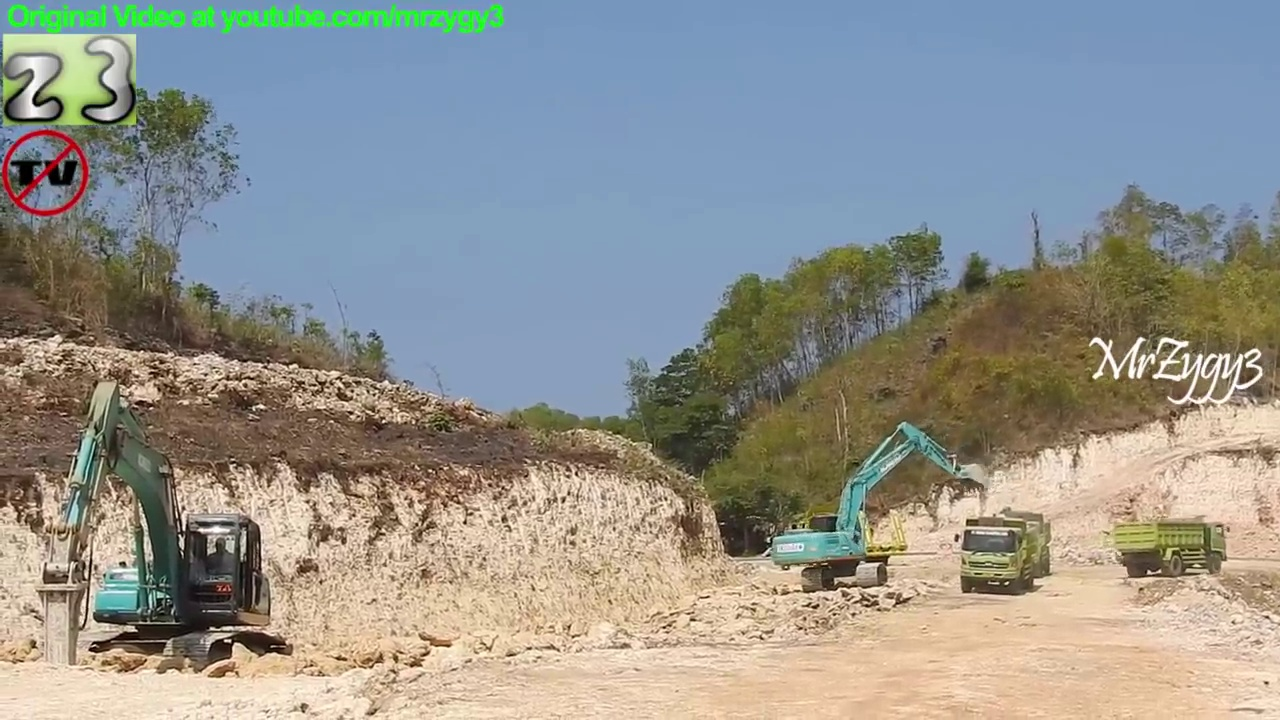excavator: (765, 416, 992, 595)
excavator breaker: (30, 374, 299, 686)
truck: (950, 513, 1044, 600), (1109, 516, 1234, 578), (968, 505, 1054, 589)
